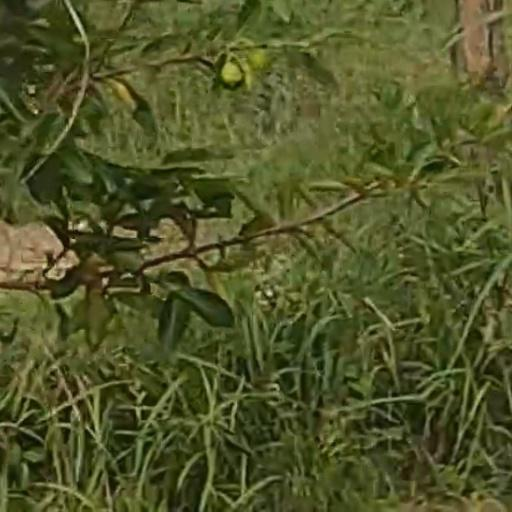acerola: (220, 62, 241, 88)
